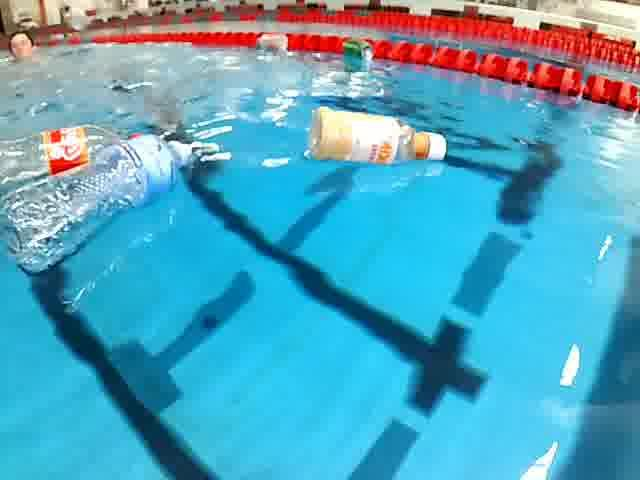Bottle: (0, 133, 201, 271), (0, 119, 156, 194), (301, 105, 453, 176), (251, 31, 293, 54)
Can: (336, 39, 382, 65)
